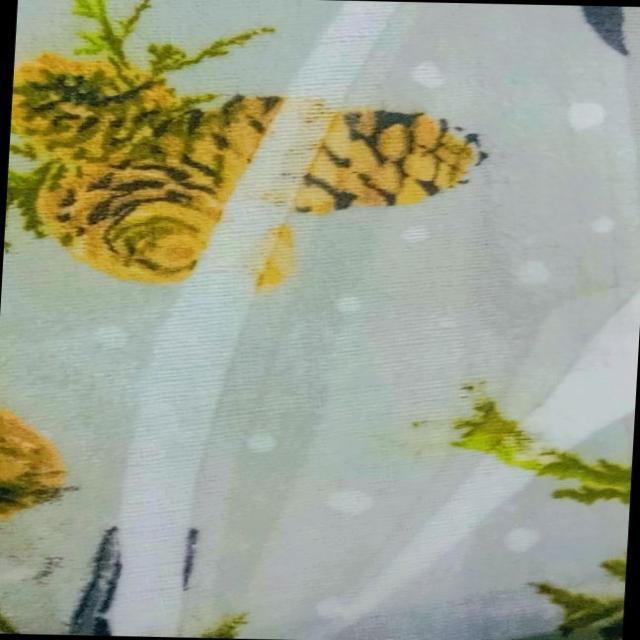selvet: (100, 227, 276, 639), (215, 0, 422, 230), (342, 447, 504, 632), (516, 279, 640, 479)
